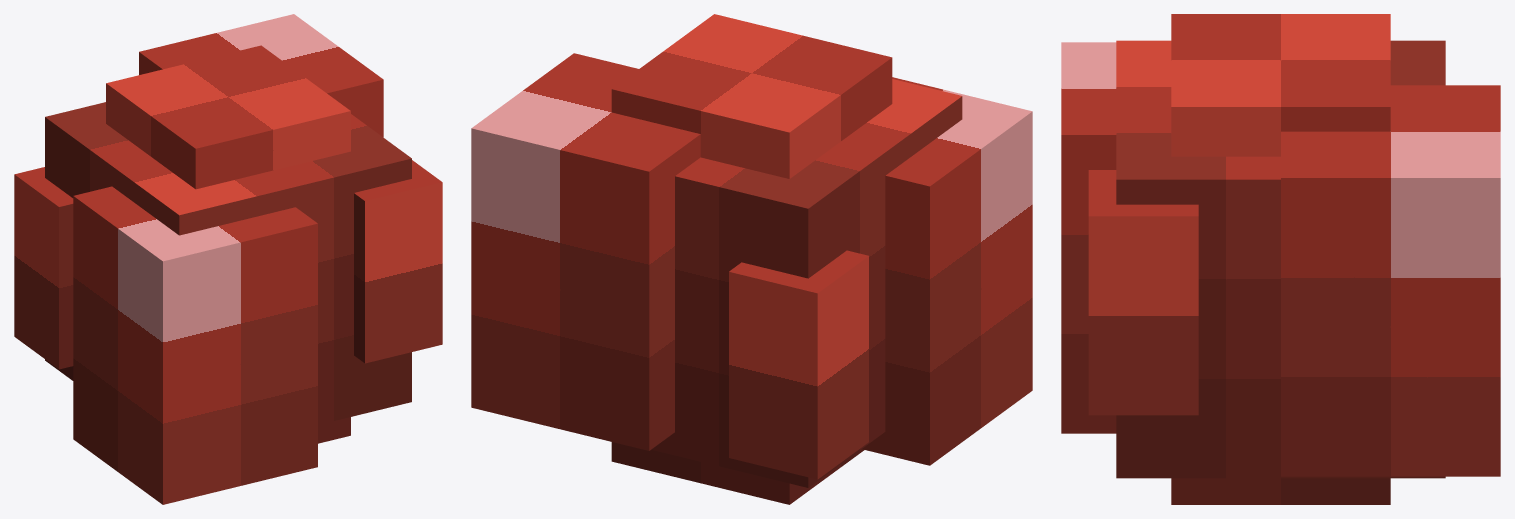
Rendered from signalite_core.obj.
3 renders of one model, left to right at view 1: azimuth 30°, elevation 25°; view 2: azimuth 150°, elevation 25°; view 3: azimuth 270°, elevation 25°, orthographic. The views are drawn at different scales.
Parts seen in each view (by area): view 1: CORE_Cube.002; view 2: CORE_Cube.002; view 3: CORE_Cube.002.
Part boxes in pixels (x1,y1,x2,y2): CORE_Cube.002: (14,14,442,504); CORE_Cube.002: (471,14,1032,504); CORE_Cube.002: (1061,14,1500,504).
Bounding box in the file's own units: 0.25 × 0.25 × 0.25.
